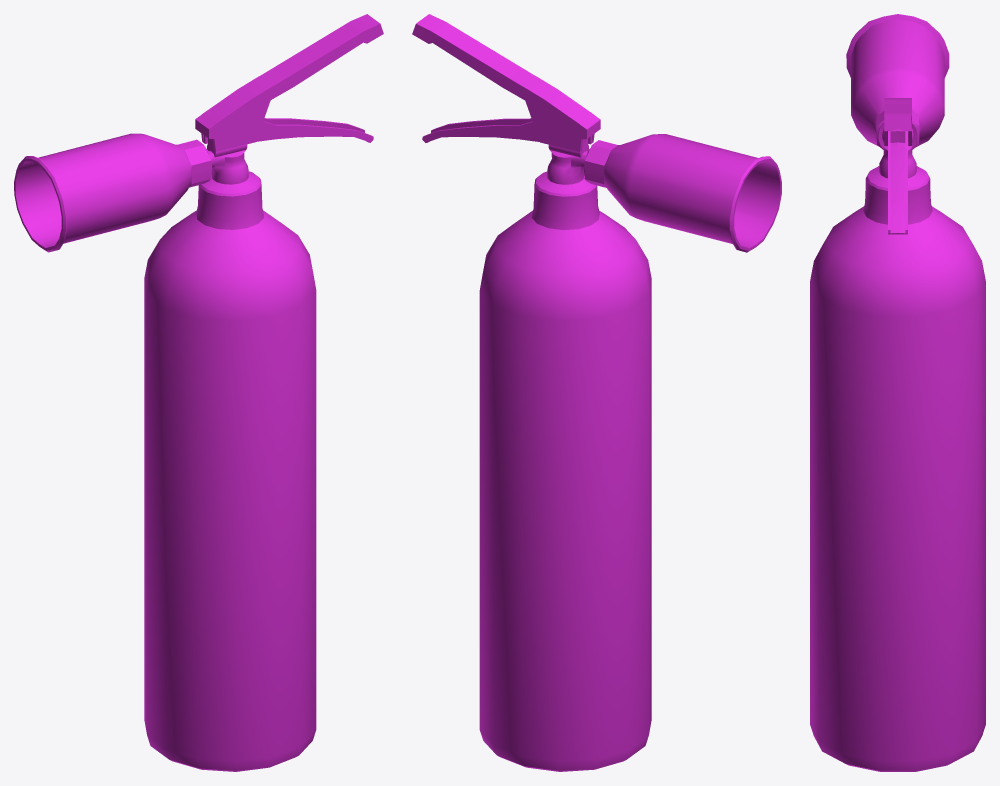
File: feuerlöscher_20112019_lowpoly.fbx
The picture shows the model from 3 angles, left to right: view 1: azimuth 30°, elevation 25°; view 2: azimuth 150°, elevation 25°; view 3: azimuth 270°, elevation 25°; orthographic projection.
Parts seen in each view (by area): view 1: Cylinder, Plane.001, Plane; view 2: Cylinder, Plane.001, Plane; view 3: Cylinder, Plane, Plane.001.
Boxes of the visible parts, bbox=[...] form: Cylinder: bbox=[14, 133, 316, 771]; Plane.001: bbox=[195, 14, 383, 151]; Plane: bbox=[204, 118, 373, 149]; Cylinder: bbox=[479, 134, 781, 771]; Plane.001: bbox=[412, 14, 600, 151]; Plane: bbox=[422, 118, 591, 150]; Cylinder: bbox=[810, 14, 985, 771]; Plane: bbox=[888, 130, 907, 234]; Plane.001: bbox=[884, 98, 911, 145].
Size of the model in its own units: 234 by 452 by 104.
